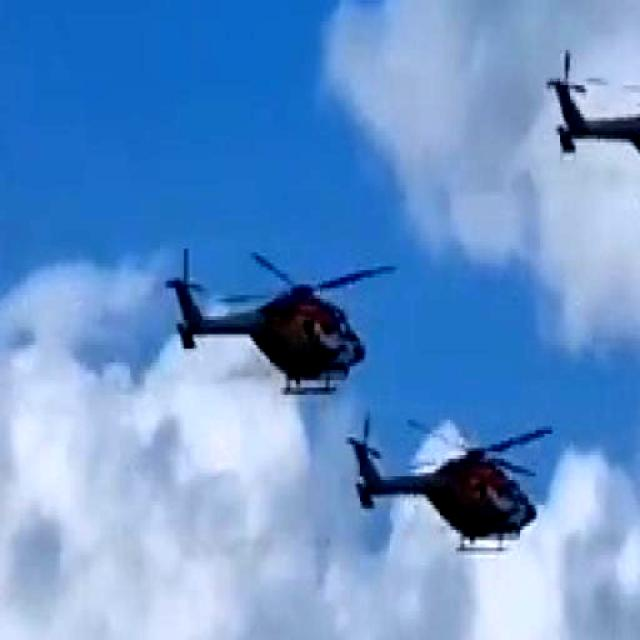drone: (166, 241, 394, 404), (344, 402, 556, 552), (550, 36, 640, 218)
